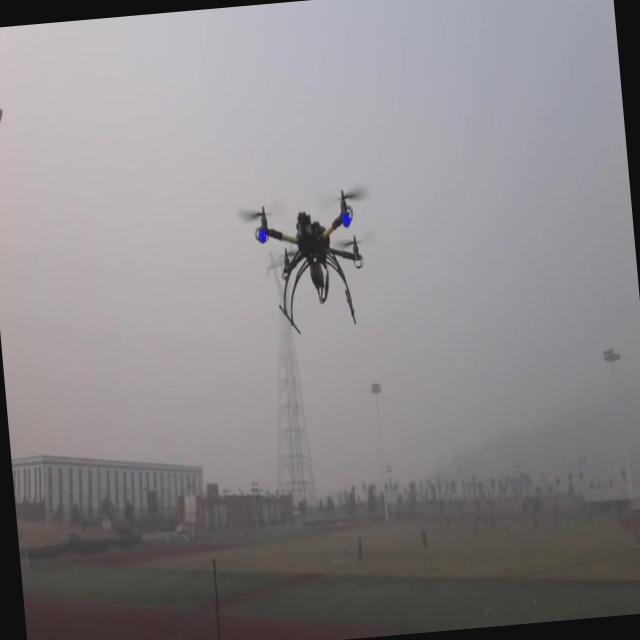drone: (250, 182, 371, 338)
